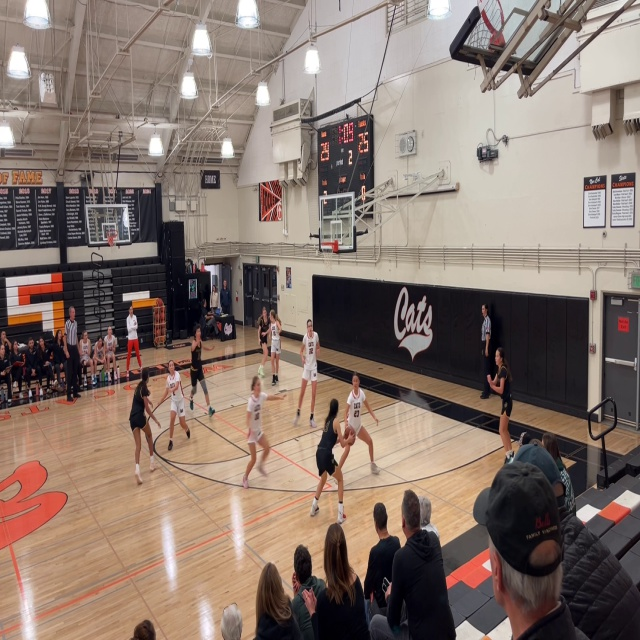Basketball: (342, 426, 355, 442)
